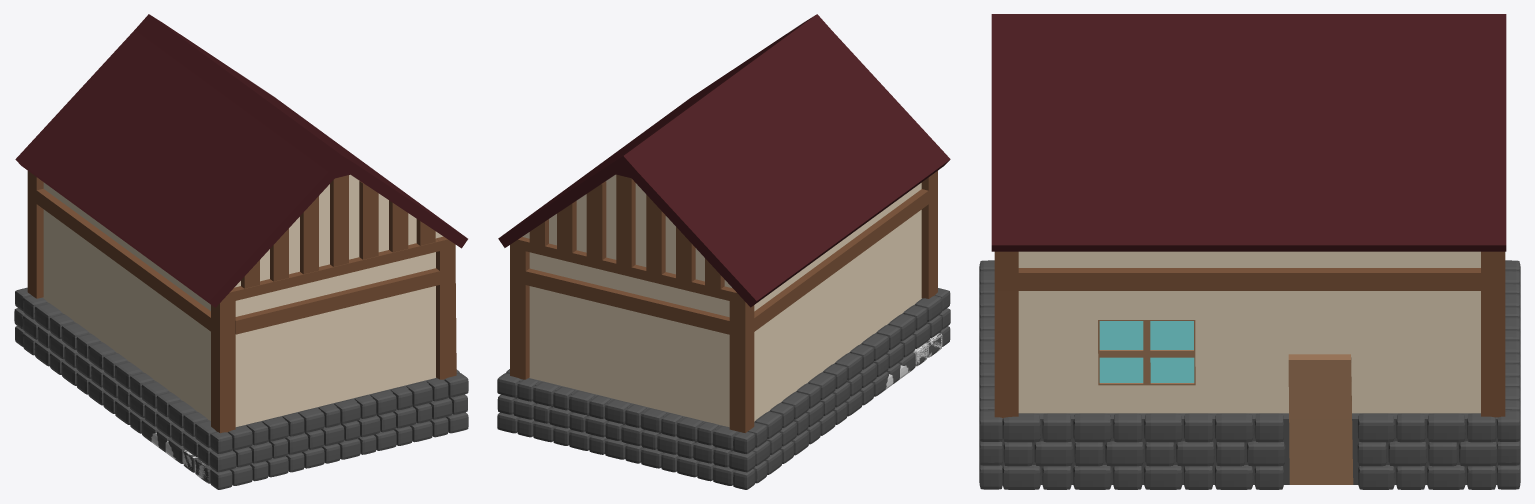
Rendered from wood_house_v2.fbx.
3 views of the same model, side by side, from view 1: azimuth 30°, elevation 25°; view 2: azimuth 150°, elevation 25°; view 3: azimuth 270°, elevation 25° (orthographic). The views are drawn at different scales.
Parts seen in each view (by area): view 1: Cube.026, Cailloux.001, Cailloux, Cube.021, Cube.024, Cube.019, Cube.001, Cube.013, Cube.012, Cube.016, Cube, Cube.017 (+1 smaller); view 2: Cube.026, Cailloux.002, Cailloux, Cube.024, Cube.020, Cube.014, Cube.019, Cube.022, Cube.034, Cube.033, Cube.036, Cube.032 (+2 smaller); view 3: Cube.026, Cailloux.003, Cube.022, Cailloux.002, Cailloux.001, Cube.021, Cube.020.
Boxes of the visible parts, left/top/right/bottom form: Cube.026: left=15, top=14, right=467, bottom=450; Cailloux.001: left=209, top=373, right=468, bottom=489; Cailloux: left=22, top=295, right=216, bottom=483; Cube.021: left=235, top=236, right=456, bottom=379; Cube.024: left=27, top=171, right=210, bottom=331; Cube.019: left=211, top=289, right=235, bottom=433; Cube.001: left=233, top=238, right=439, bottom=300; Cube.013: left=330, top=175, right=348, bottom=266; Cube.012: left=359, top=181, right=378, bottom=259; Cube.016: left=300, top=196, right=318, bottom=274; Cube: left=389, top=200, right=408, bottom=252; Cube.017: left=270, top=228, right=288, bottom=281; Cube.026: left=498, top=14, right=950, bottom=465; Cailloux.002: left=497, top=373, right=755, bottom=489; Cailloux: left=748, top=295, right=942, bottom=483; Cube.024: left=729, top=189, right=928, bottom=432; Cube.020: left=510, top=237, right=729, bottom=379; Cube.014: left=525, top=239, right=732, bottom=300; Cube.019: left=921, top=171, right=937, bottom=298; Cube.022: left=510, top=239, right=529, bottom=376; Cube.034: left=616, top=174, right=635, bottom=267; Cube.033: left=586, top=181, right=606, bottom=260; Cube.036: left=646, top=195, right=665, bottom=274; Cube.032: left=557, top=201, right=576, bottom=252; Cube.026: left=991, top=14, right=1509, bottom=484; Cailloux.003: left=1002, top=413, right=1497, bottom=489; Cube.022: left=1018, top=257, right=1505, bottom=416; Cailloux.002: left=1497, top=260, right=1520, bottom=489; Cailloux.001: left=979, top=260, right=1002, bottom=489; Cube.021: left=994, top=251, right=1018, bottom=418; Cube.020: left=1481, top=251, right=1505, bottom=417.
Size of the model in its own units: 3287 by 3644 by 4491.
